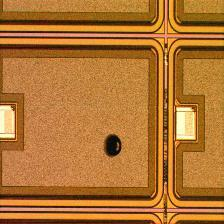PARTICLE: (98, 132, 130, 164)
